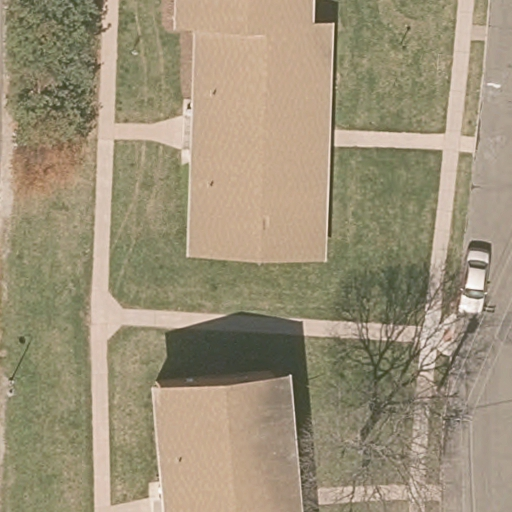DT: (431, 392, 473, 431)
